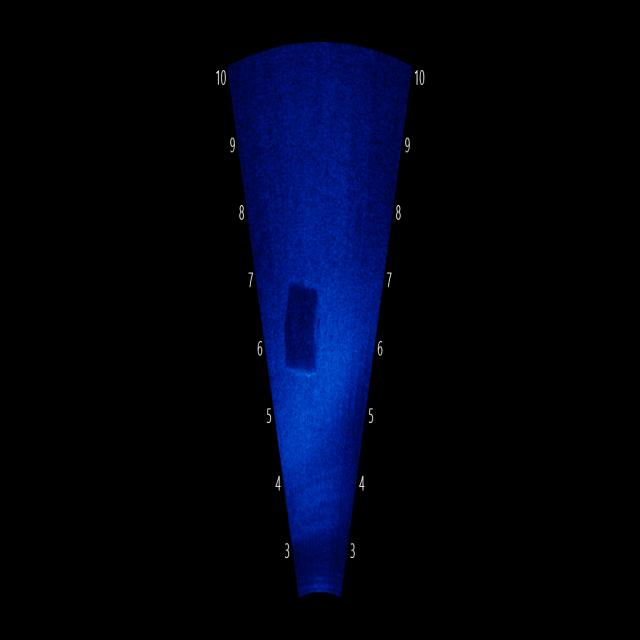square: (279, 263, 332, 395)
